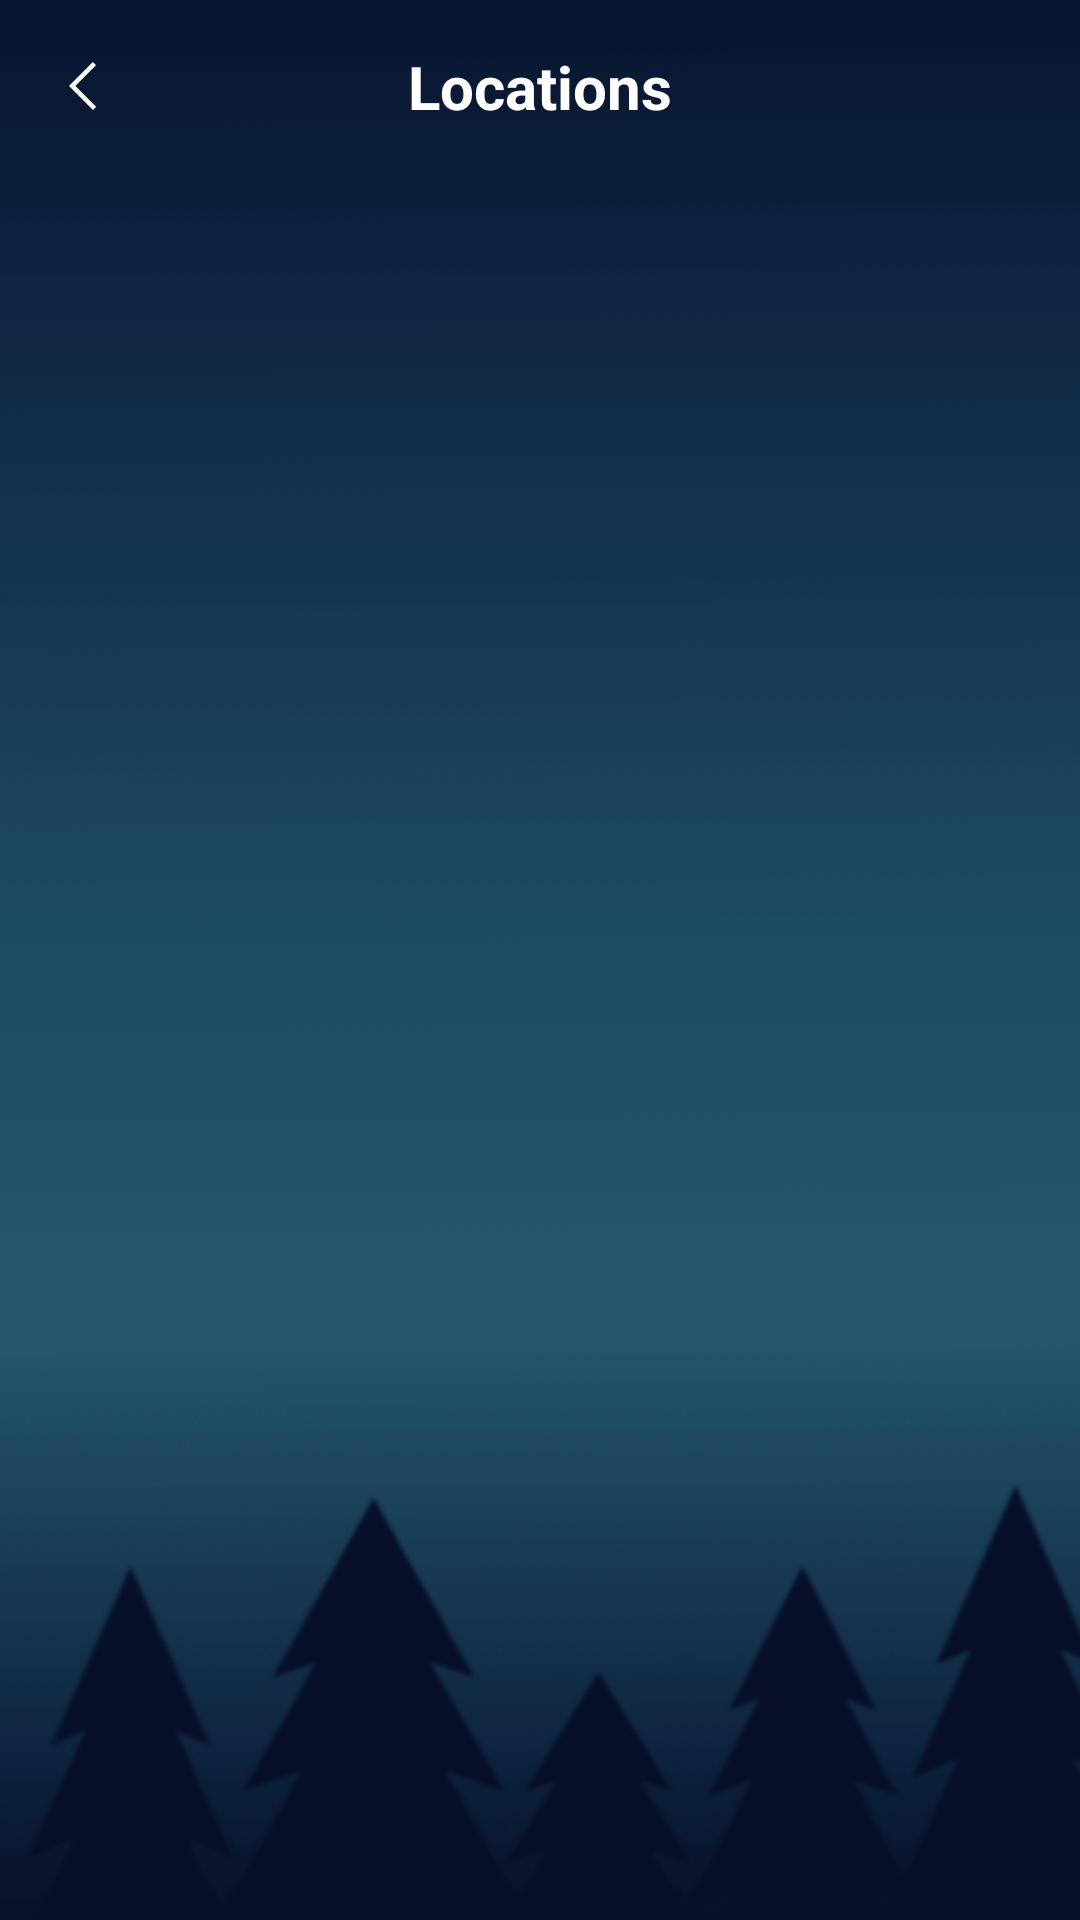

Icon click points for this 1080×1920 phone screenshot, format point (x, y):
back: point (82, 86)
